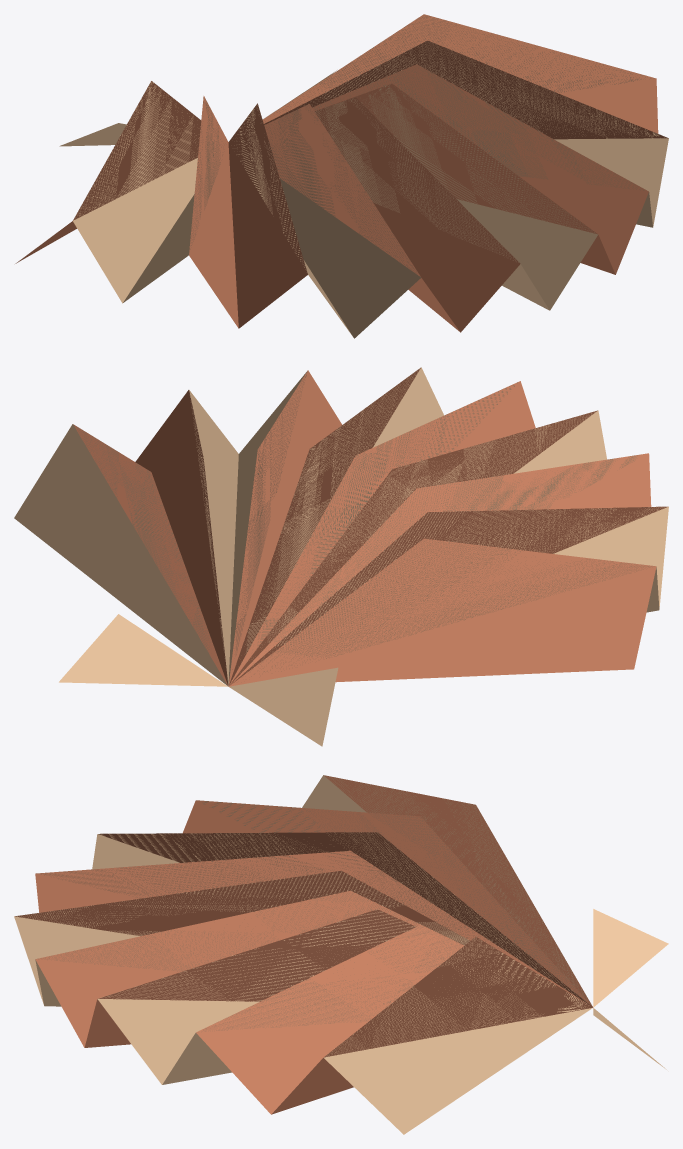
Rendered from shell_scallop.glb.
3 views of the same model, one above another, from view 1: azimuth 30°, elevation 25°; view 2: azimuth 150°, elevation 25°; view 3: azimuth 270°, elevation 25° (orthographic).
Parts seen in each view (by area): view 1: shell_scallop; view 2: shell_scallop; view 3: shell_scallop.
Part boxes in pixels (x1,y1,x2,y2): shell_scallop: [15, 14, 668, 338]; shell_scallop: [14, 367, 668, 746]; shell_scallop: [14, 775, 668, 1134].
Bounding box in the file's own units: 0.4511 × 0.096 × 0.416.
